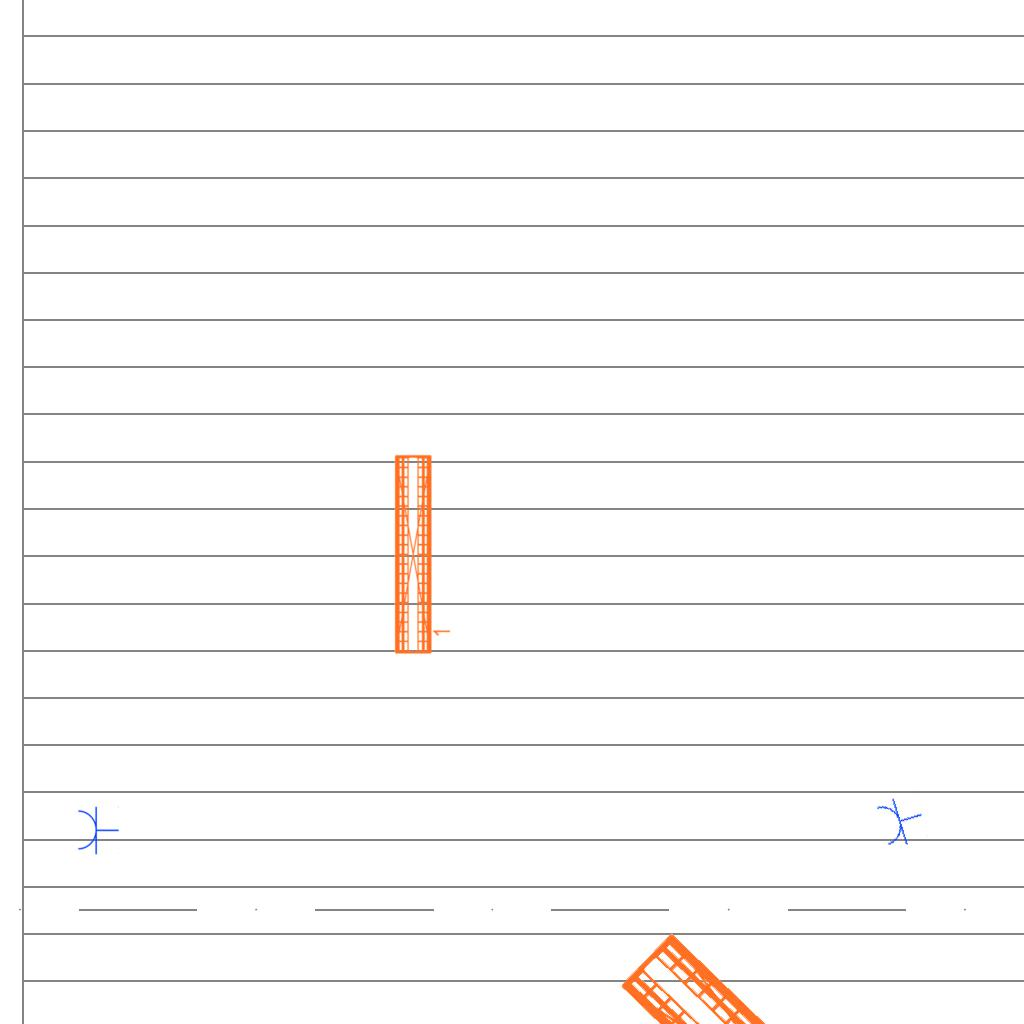Buero_Pendelleuchten_LED: (607, 893, 996, 1024), (390, 451, 455, 657)
Schukosteckdose_einfach: (873, 790, 929, 851), (76, 805, 119, 855)
